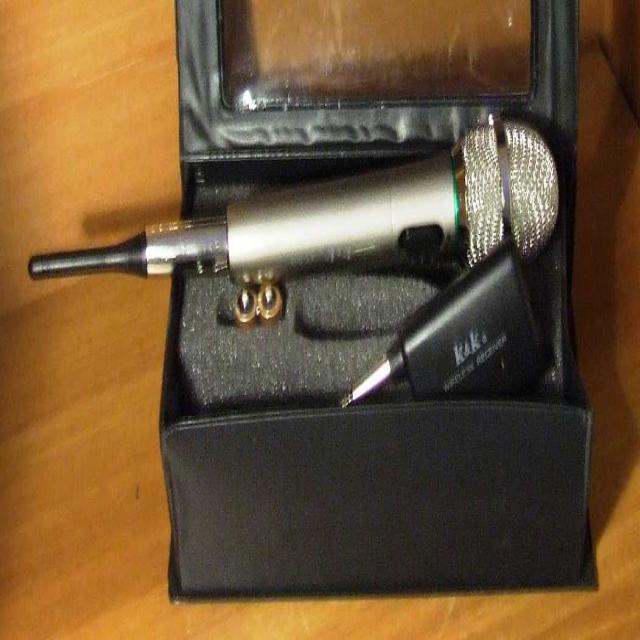microphone: (221, 118, 564, 286)
